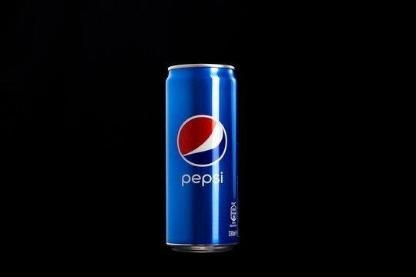Can: (164, 62, 240, 254)
